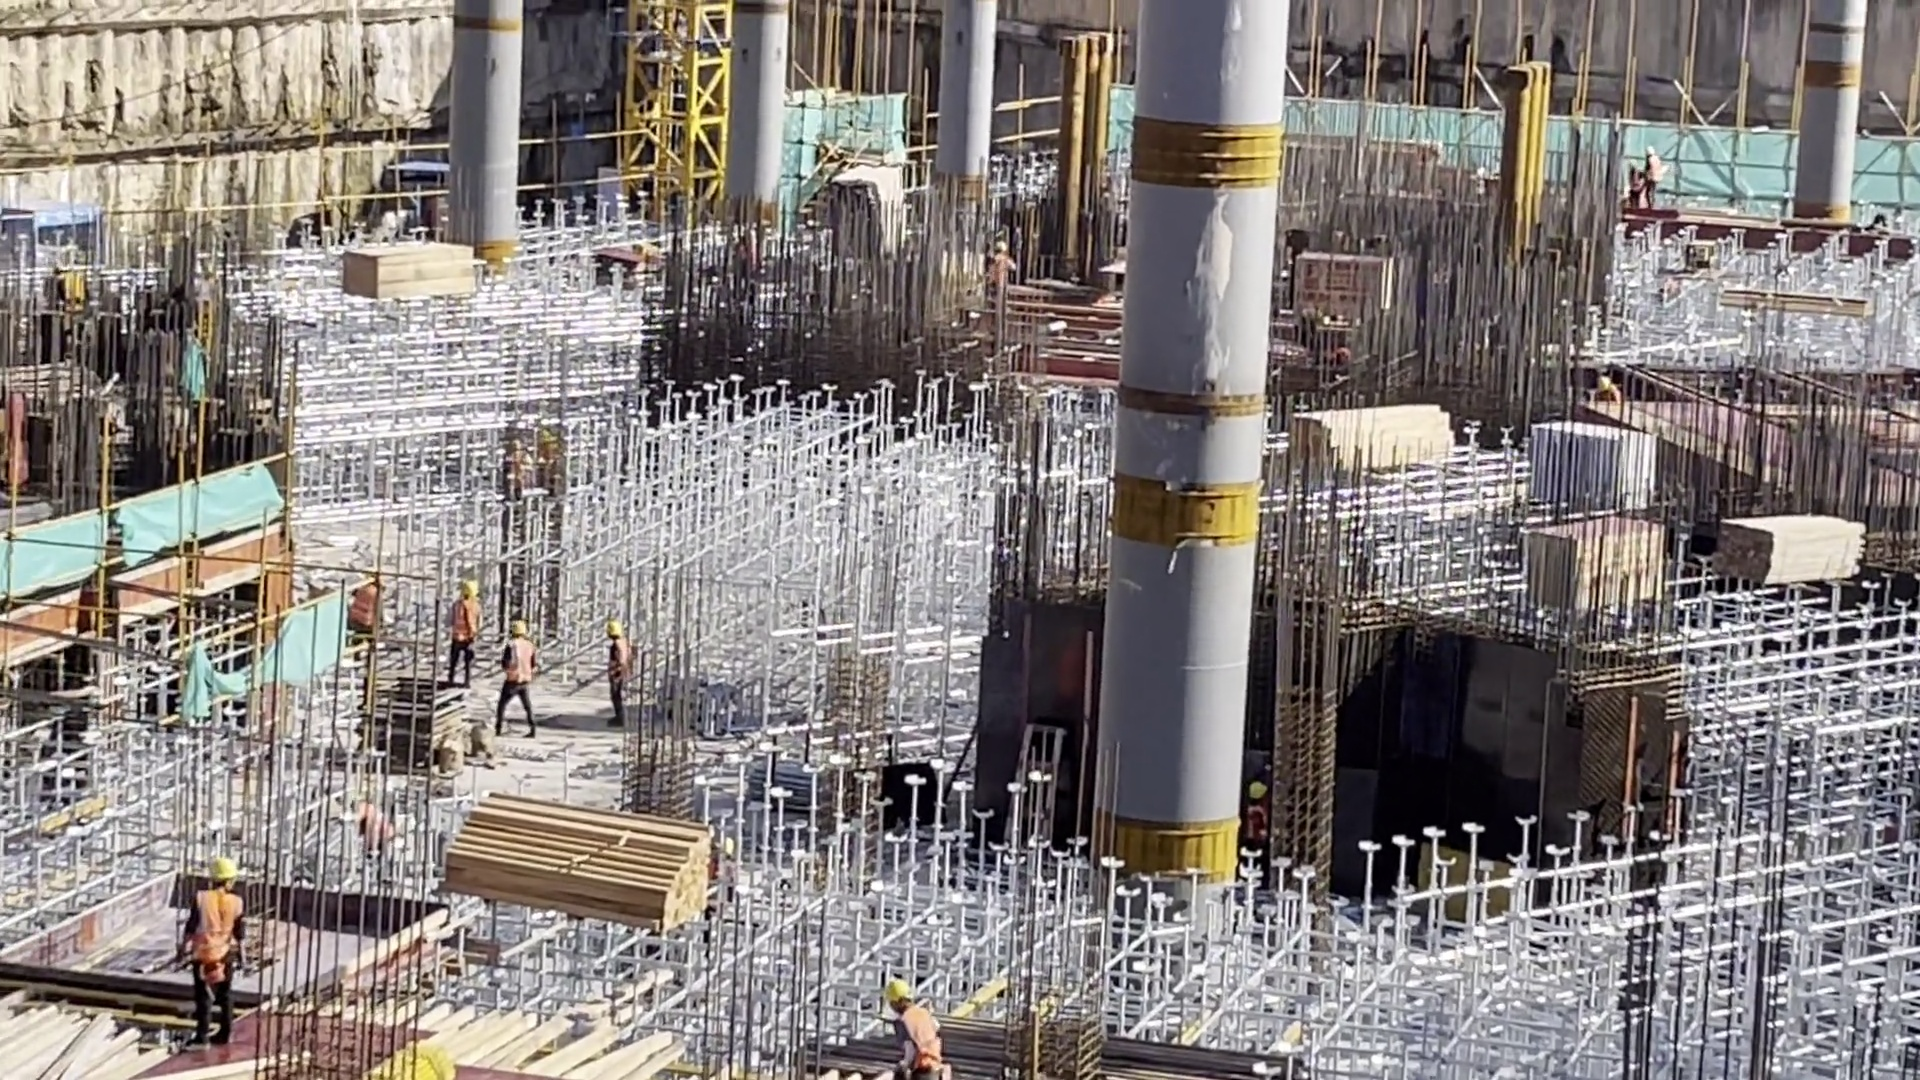helmet: (208, 860, 235, 878), (890, 982, 910, 1006), (1248, 782, 1267, 800), (457, 580, 479, 597), (509, 619, 527, 635), (606, 618, 622, 638)
person: (174, 859, 251, 1048), (885, 979, 944, 1080), (491, 621, 540, 737), (444, 579, 482, 691), (603, 615, 635, 728), (347, 570, 383, 657), (1238, 782, 1270, 852), (987, 237, 1017, 295), (1640, 146, 1664, 214), (1624, 163, 1646, 227)
vest: (192, 890, 236, 960), (903, 1006, 940, 1073), (351, 585, 377, 633), (453, 599, 481, 641), (507, 641, 532, 681), (610, 640, 630, 685), (1247, 805, 1267, 842)
